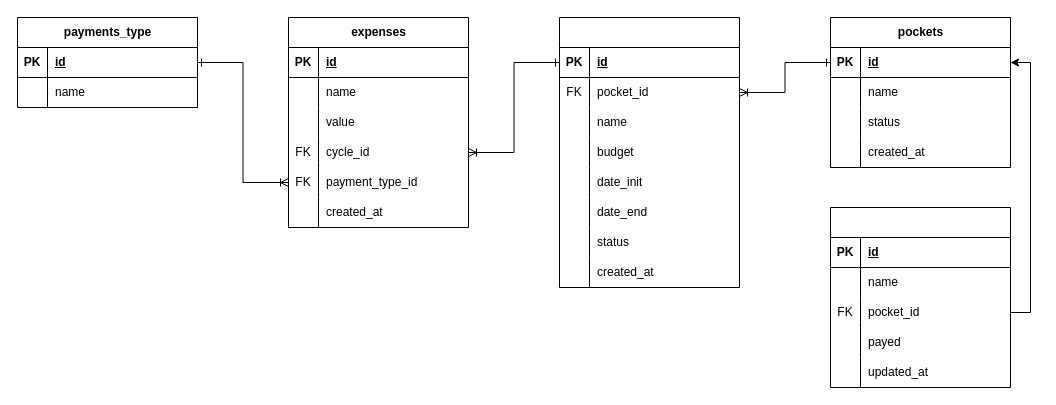
Image size: 1056x405. Some labels were removed from this diagram. Each missing label, with the box of its shape:
concepts: (830, 206, 1010, 388)
cycles: (558, 16, 740, 288)
